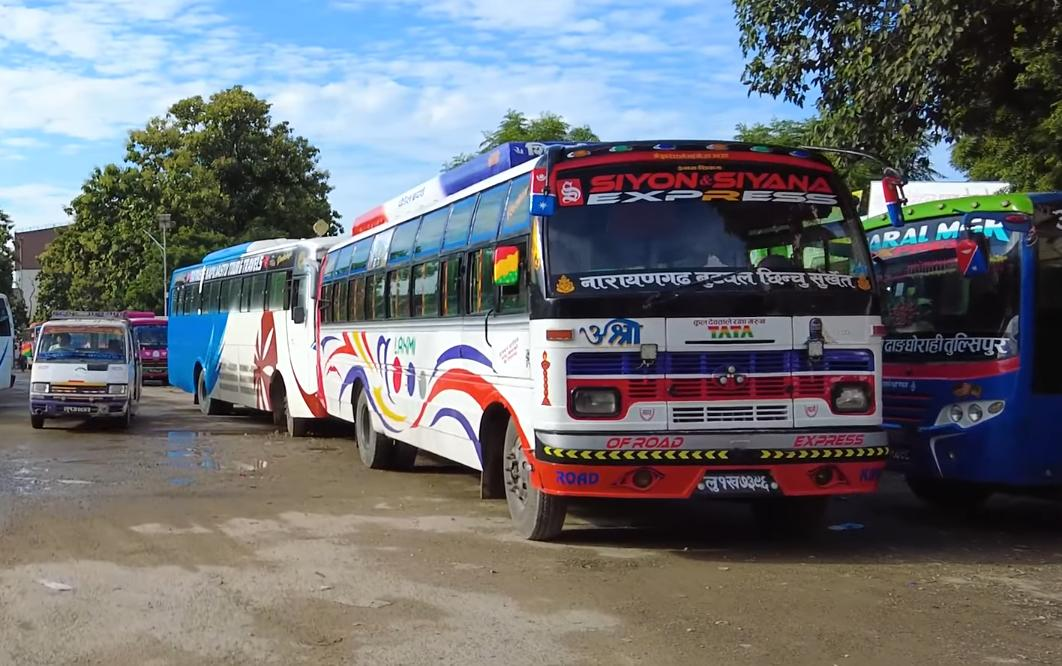bus: (290, 112, 902, 523), (851, 178, 1062, 508), (157, 230, 339, 438)
micro_bus: (21, 315, 147, 438)
